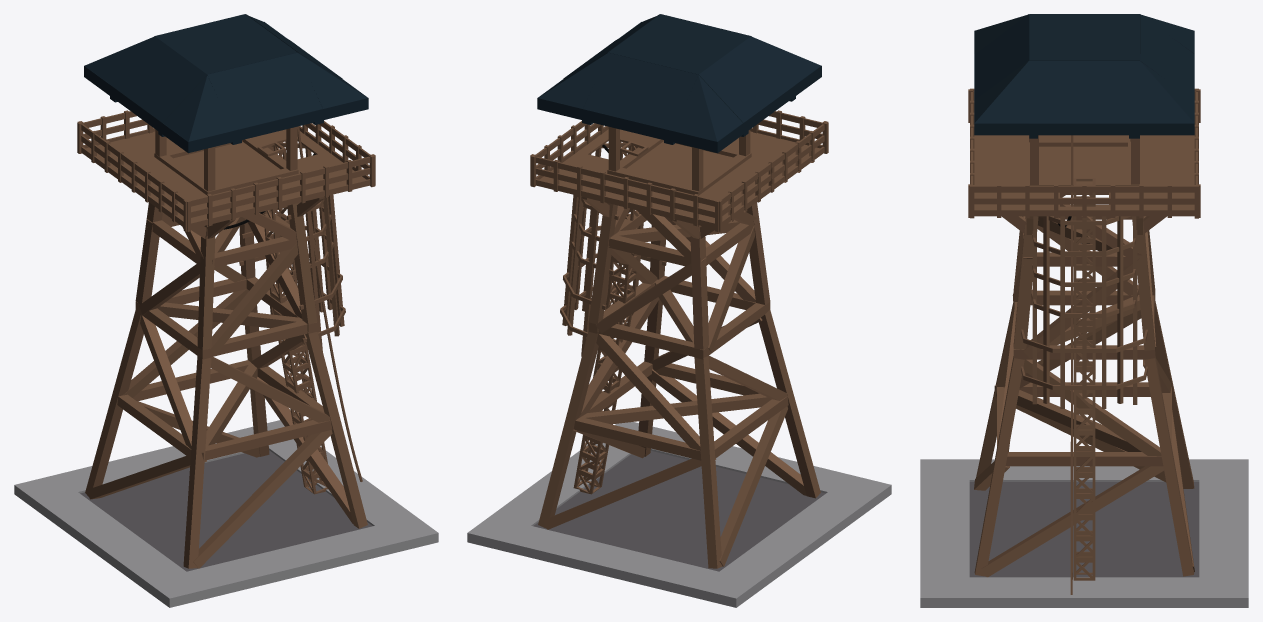
File: Target_Tower.fbx
3 views of the same model, side by side, from view 1: azimuth 30°, elevation 25°; view 2: azimuth 150°, elevation 25°; view 3: azimuth 270°, elevation 25° (orthographic). The views are drawn at different scales.
Parts seen in each view (by area): view 1: Ob:Supportpart7, Ob:Part66, Ob:Part58, Ob:Part54, Ob:Fenceunion3, Ob:Part53, Ob:Part59, Ob:Part3, Ob:Fenceunion1, Ob:Part62, Ob:Part106, Ob:Part92 (+42 smaller); view 2: Ob:Supportpart7, Ob:Part66, Ob:Part51, Ob:Part54, Ob:Fenceunion2, Ob:Part53, Ob:Part59, Ob:Part17, Ob:Fenceunion1, Ob:Part35, Ob:Part26, Ob:Part3 (+41 smaller); view 3: Ob:Supportpart7, Ob:Part66, Ob:Part55, Ob:Fenceunion4, Ob:Part54, Ob:Part62, Ob:Part35, Ob:Part79, Ob:Part59, Ob:Part26, Ob:Part106, Ob:Part102 (+38 smaller).
Boxes of the visible parts, x1,y1,x2,y2 form: Ob:Supportpart7: (14, 420, 438, 607); Ob:Part66: (80, 450, 372, 571); Ob:Part58: (207, 52, 322, 130); Ob:Part54: (155, 14, 297, 74); Ob:Fenceunion3: (183, 154, 375, 231); Ob:Part53: (110, 36, 206, 122); Ob:Part59: (84, 22, 368, 153); Ob:Part3: (183, 356, 211, 568); Ob:Fenceunion1: (77, 121, 190, 231); Ob:Part62: (150, 152, 366, 222); Ob:Part106: (305, 331, 367, 528); Ob:Part92: (193, 430, 332, 568); Ob:Supportpart7: (467, 422, 891, 607); Ob:Part66: (533, 451, 825, 571); Ob:Part51: (583, 52, 698, 130); Ob:Part54: (608, 14, 750, 74); Ob:Fenceunion2: (530, 154, 722, 231); Ob:Part53: (699, 36, 795, 122); Ob:Part59: (537, 22, 821, 153); Ob:Part17: (694, 356, 722, 568); Ob:Fenceunion1: (715, 121, 827, 231); Ob:Part35: (539, 152, 755, 222); Ob:Part26: (538, 331, 598, 528); Ob:Part3: (759, 309, 820, 498); Ob:Supportpart7: (920, 459, 1248, 607); Ob:Part66: (969, 482, 1199, 577); Ob:Part55: (1029, 61, 1139, 123); Ob:Fenceunion4: (968, 184, 1200, 217); Ob:Part54: (1029, 14, 1139, 60); Ob:Part62: (974, 135, 1059, 209); Ob:Part35: (1109, 135, 1194, 209); Ob:Part79: (1073, 343, 1095, 580); Ob:Part59: (974, 31, 1194, 135); Ob:Part26: (1144, 356, 1194, 576); Ob:Part106: (974, 356, 1024, 576); Ob:Part102: (981, 466, 1163, 577).
Size of the model in its own units: 30 by 50.5 by 30.
